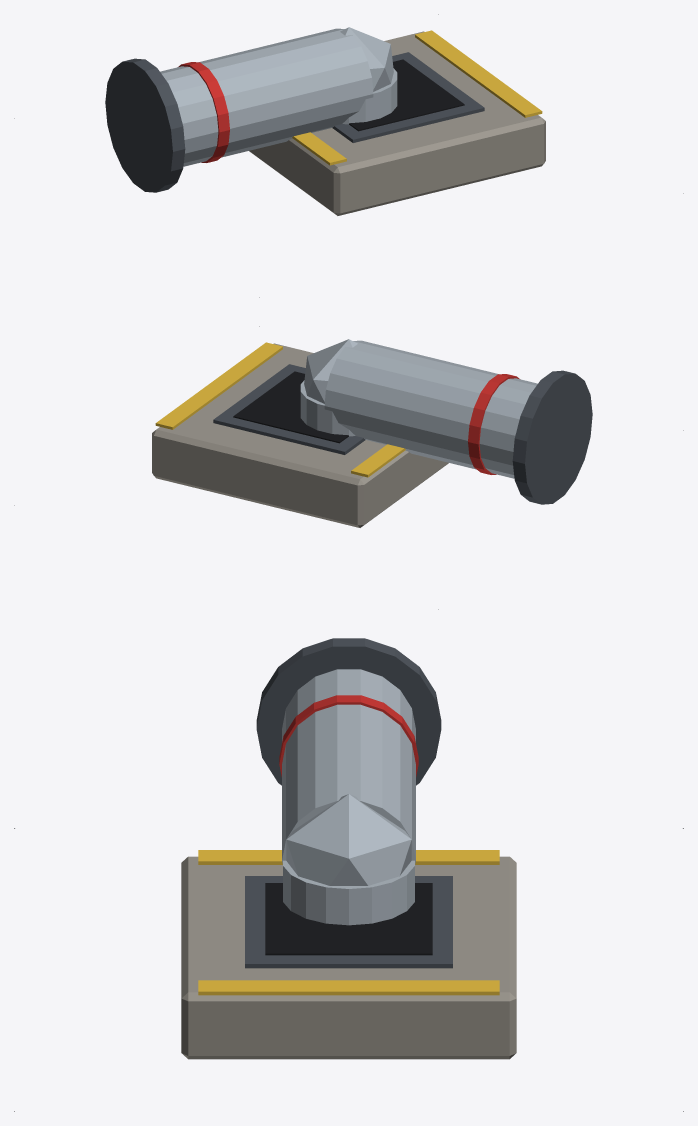
The model's file is tuyau_regard_t3.glb.
3 renders of one model, top to bottom at view 1: azimuth 30°, elevation 25°; view 2: azimuth 150°, elevation 25°; view 3: azimuth 270°, elevation 25°, orthographic. The views are drawn at different scales.
Parts seen in each view (by area): view 1: pieces_inox.014, pieces_beton.044, pieces_acier_sombre.044, pieces_jaune.008, pieces_noir.008, pieces_rive_t3.014; view 2: pieces_inox.014, pieces_beton.044, pieces_acier_sombre.044, pieces_jaune.008, pieces_noir.008, pieces_rive_t3.014; view 3: pieces_beton.044, pieces_inox.014, pieces_acier_sombre.044, pieces_noir.008, pieces_jaune.008, pieces_rive_t3.014.
Part boxes in pixels (x1,y1,x2,y2): pieces_inox.014: (160,27,397,166); pieces_beton.044: (249,31,545,215); pieces_acier_sombre.044: (105,52,484,192); pieces_jaune.008: (292,30,542,165); pieces_noir.008: (349,59,464,131); pieces_rive_t3.014: (178,62,229,162); pieces_inox.014: (300,339,537,478); pieces_beton.044: (152,343,448,527); pieces_acier_sombre.044: (213,364,592,504); pieces_jaune.008: (155,342,405,477); pieces_noir.008: (233,371,348,443); pieces_rive_t3.014: (468,374,519,474); pieces_beton.044: (181,856,516,1059); pieces_inox.014: (282,669,415,925); pieces_acier_sombre.044: (245,638,452,968); pieces_noir.008: (265,883,432,955); pieces_jaune.008: (198,850,499,995); pieces_rive_t3.014: (279,695,418,776).
Bounding box in the file's own units: 1 × 0.3159 × 1.
